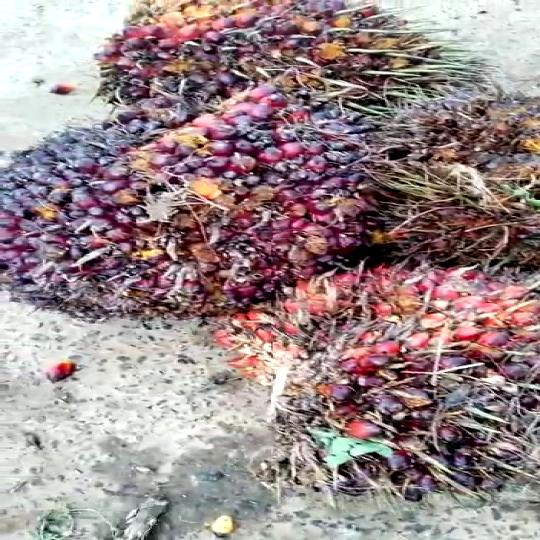masak: (1, 93, 400, 314), (239, 254, 540, 499), (96, 0, 476, 122)
